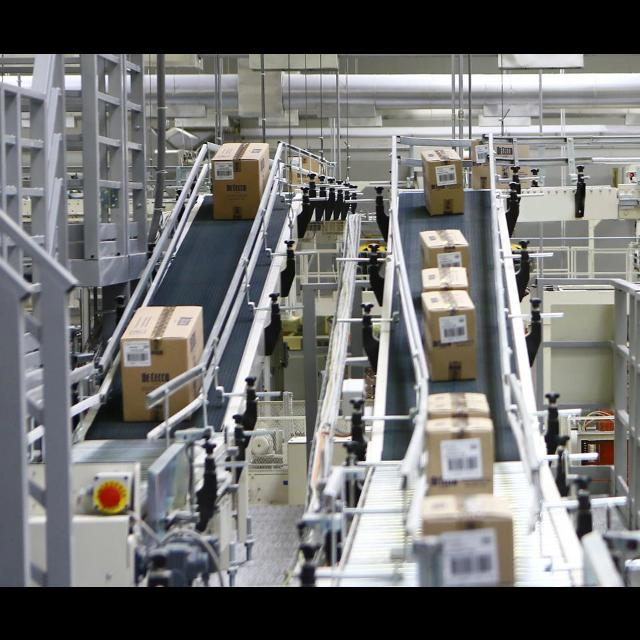box: (120, 306, 206, 422), (423, 496, 515, 586), (422, 288, 480, 379), (426, 420, 492, 498), (212, 140, 270, 218), (421, 148, 465, 216), (418, 229, 469, 265), (429, 392, 489, 418), (418, 265, 472, 291)
